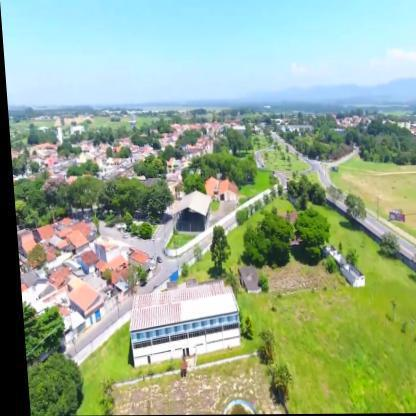agua: (219, 400, 247, 414)
